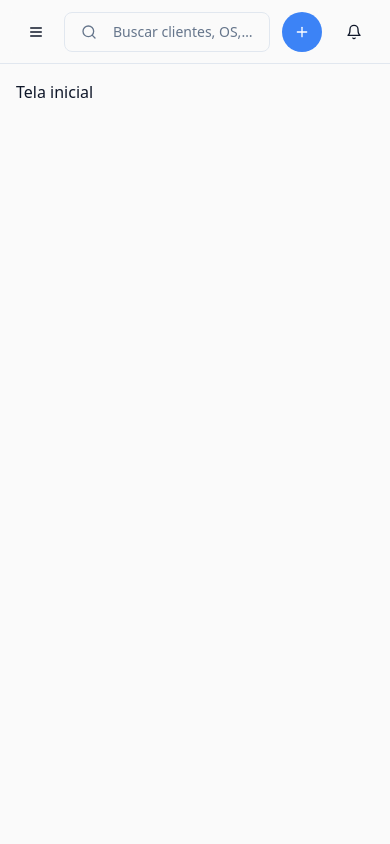
Test: Sistema no celular: menu na gaveta › o botão de menu existe e abre o menu com os destinos
The image size is (390, 844).
Click the button named "Abrir o menu": (36, 32) [16,12,56,52]
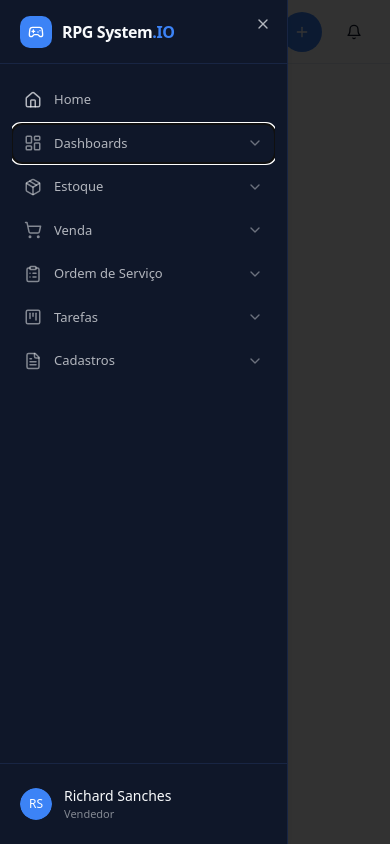
Now the link "Home" is shown, box [24,90,91,109]
Now the button "Tarefas" is shown, box [12,298,275,337]
Now the button "Venda" is shown, box [12,210,275,250]
